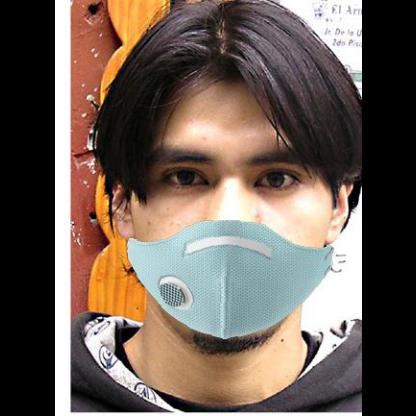FFP Mask: (109, 66, 342, 346)
